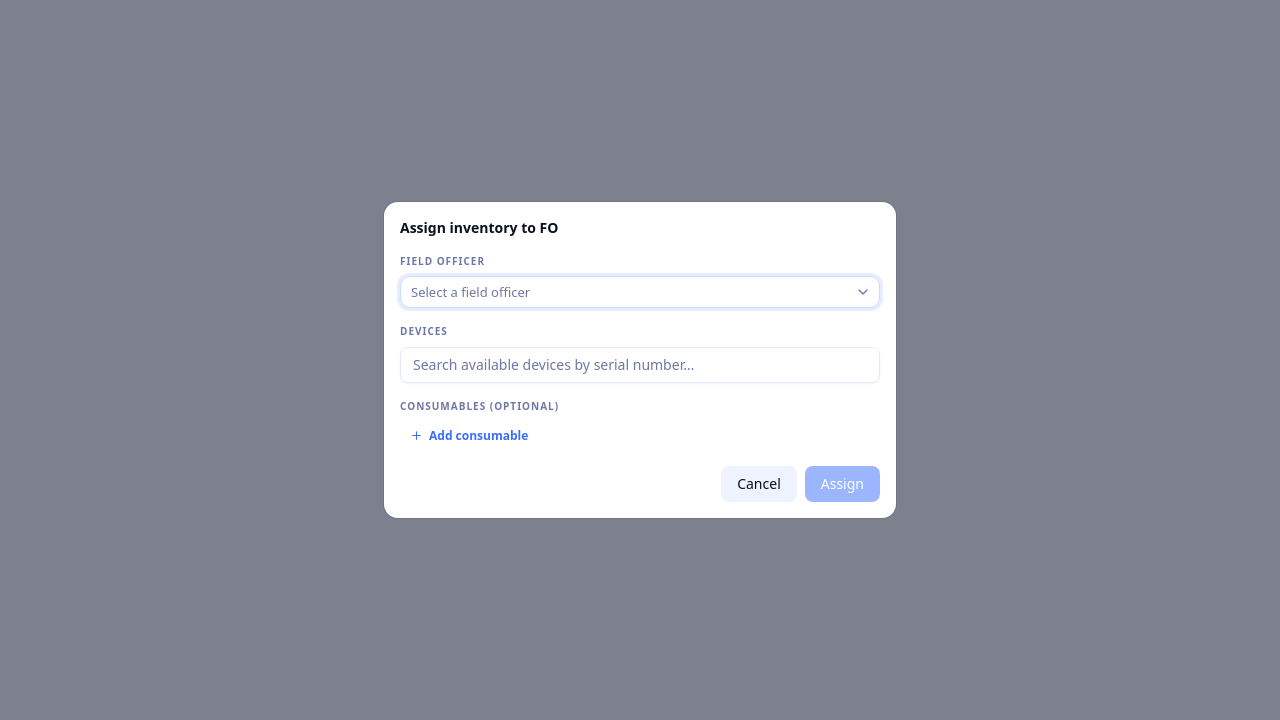
DirectAssignmentModal › submit stays disabled until an FO is picked AND at least one device or consumable line is valid
The image size is (1280, 720).
Expected: the button "Assign" is disabled, [805,466,880,502]
# Picking an FO alone (no devices/consumables) is not enough.
Click the dropdown. click: [471, 292]
box: [400,276,880,308]
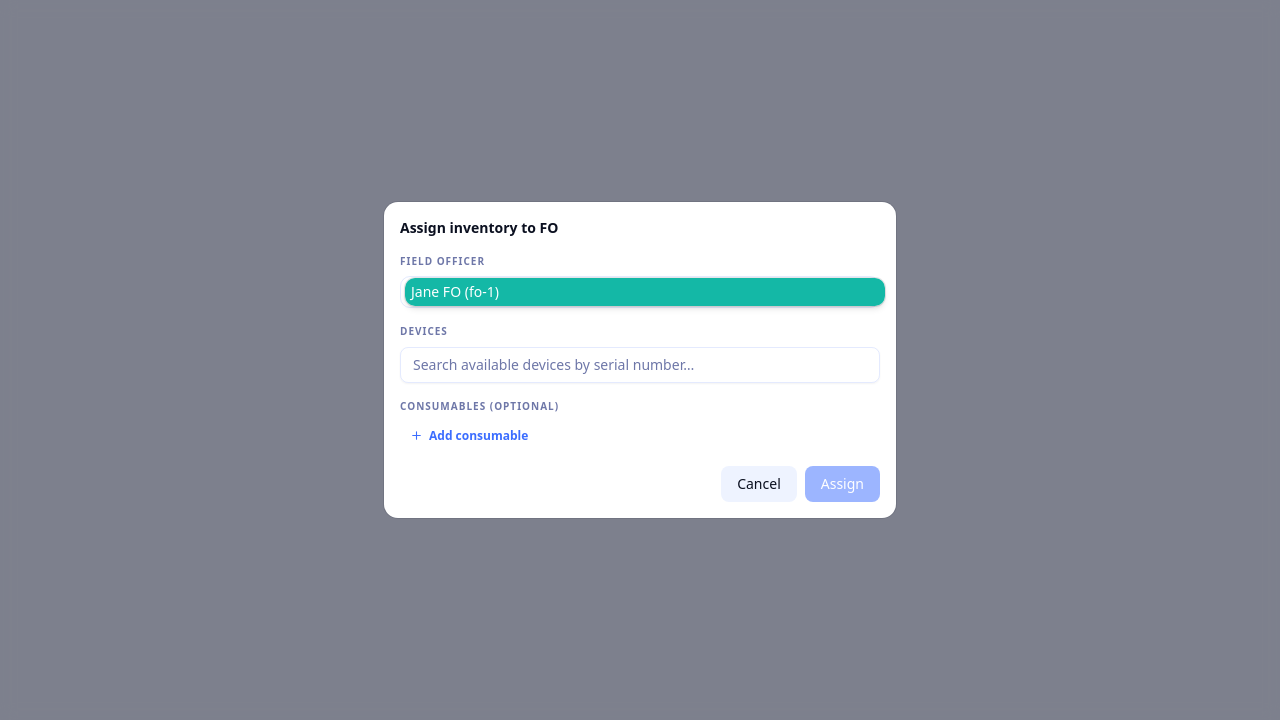
Click the option "Jane FO (fo-1)". click: [436, 292]
box: [405,278,885,306]
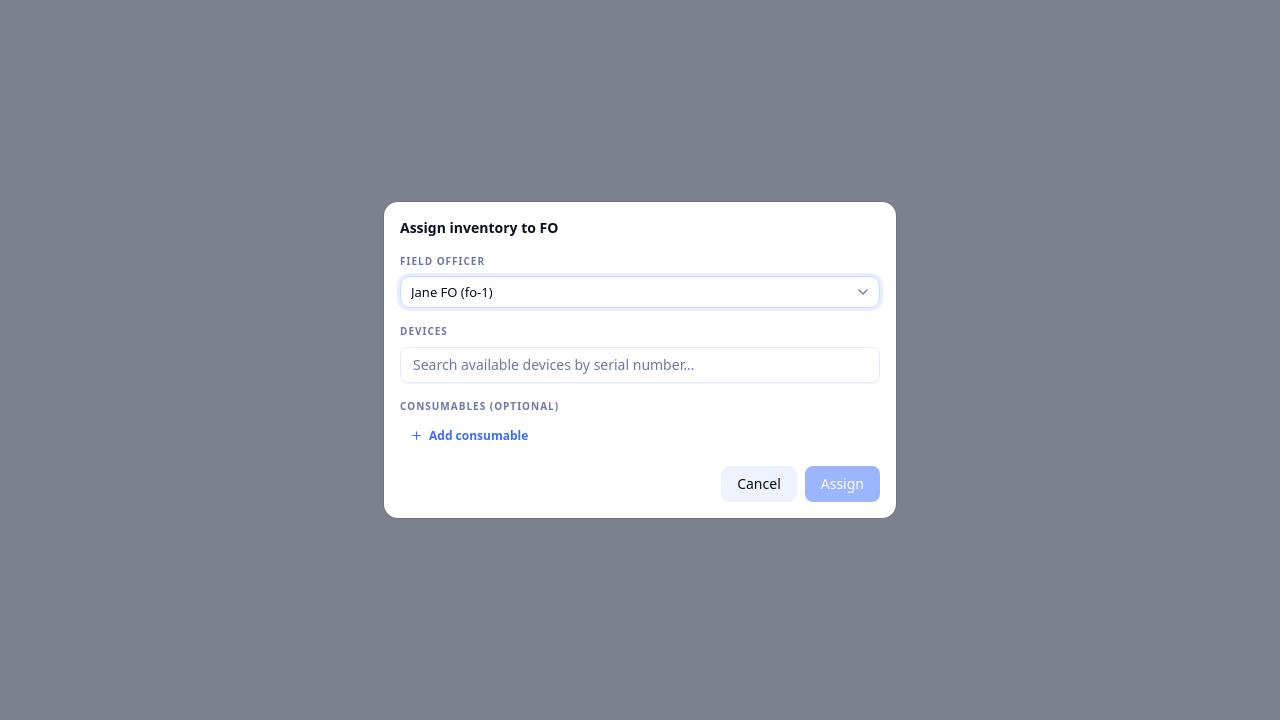
Expected: the button "Assign" is disabled, [805,466,880,502]
# Adding one available device satisfies the "at least one" requirement.
Type "SN" into the field with placeholder "Search available devices by serial number…". click: [640, 365]
box: [400,347,880,383]
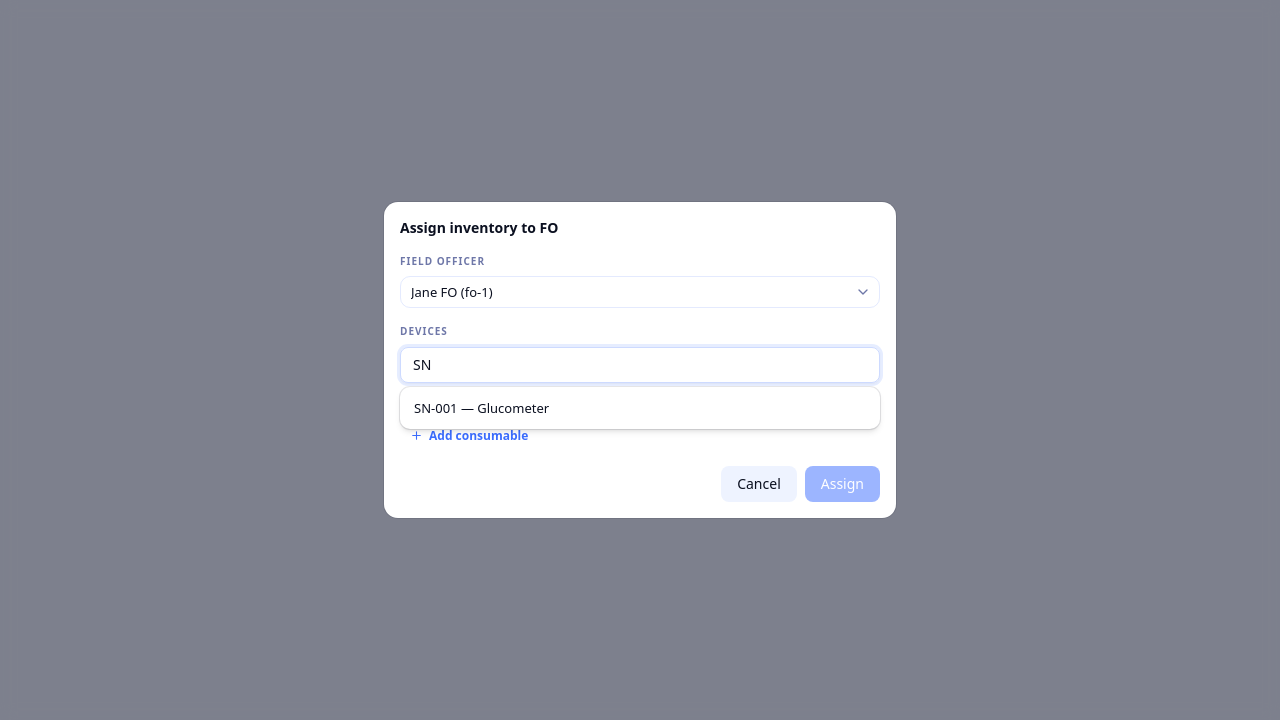
Click the button "SN-001 — Glucometer". click: [482, 408]
box: [406,393,874,423]
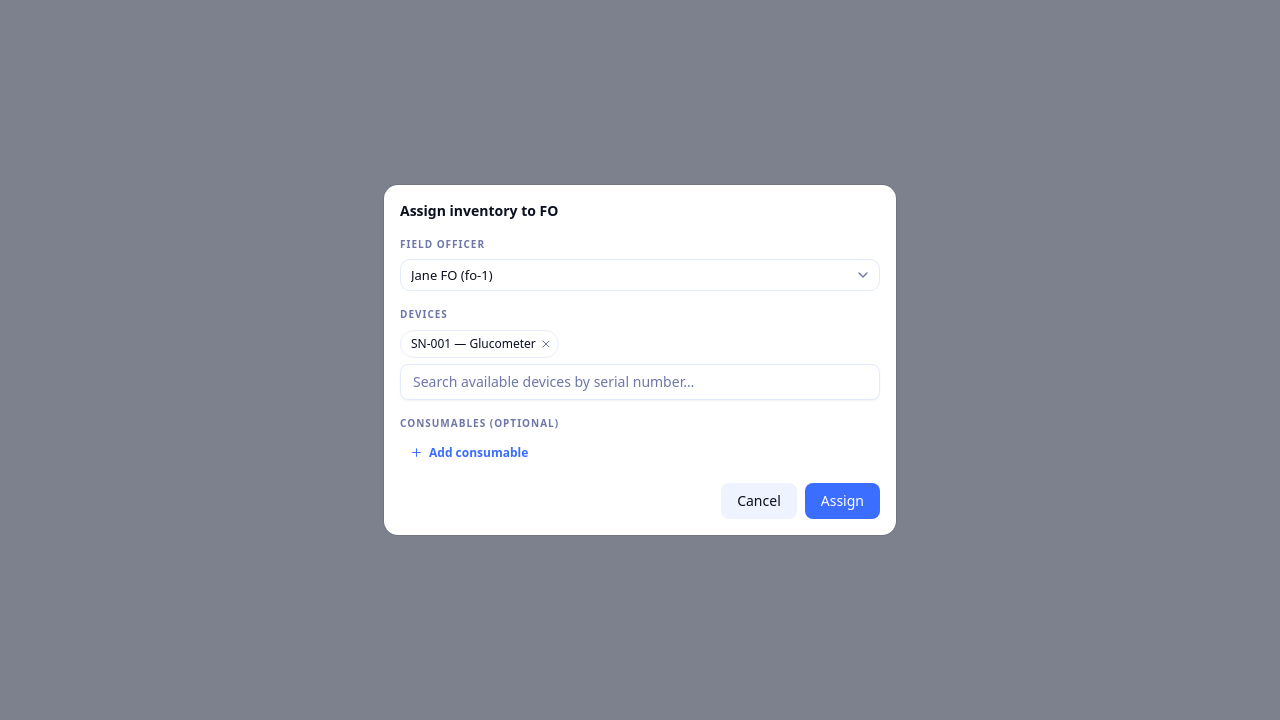
Expected: the button "Assign" is enabled, [805,483,880,519]
